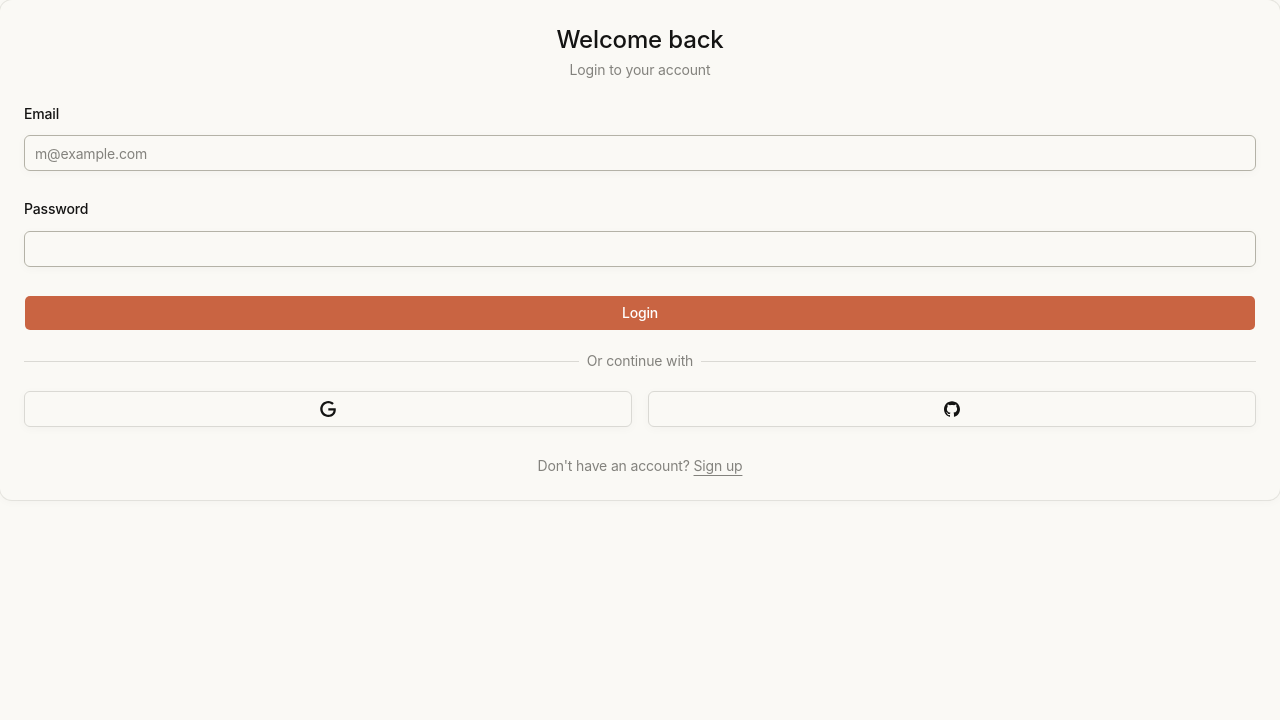
LoginForm › form submission › should show loading state while submitting
# When the user fills in credentials and clicks Login
In the field labelled "Email": (640, 153) 24,135 -> 1256,171, type "test@example.com"
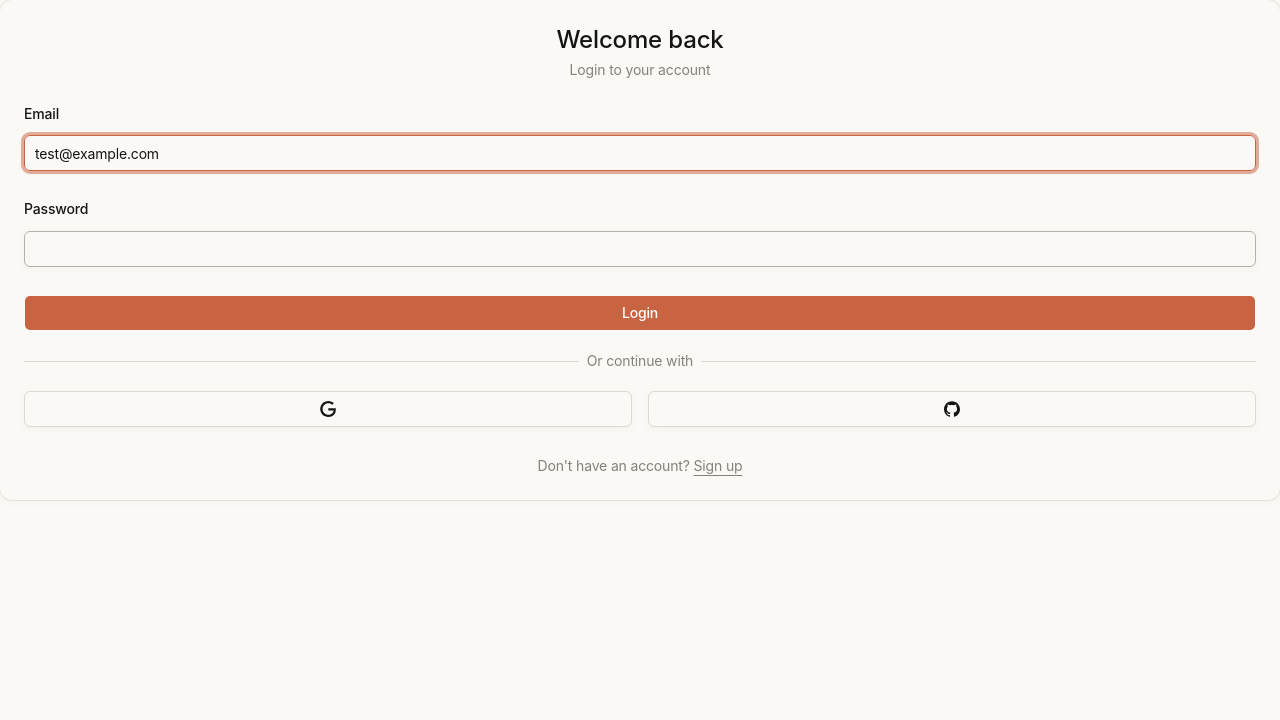
In the password field labelled "Password": (640, 248) 24,230 -> 1256,266, type "password123"
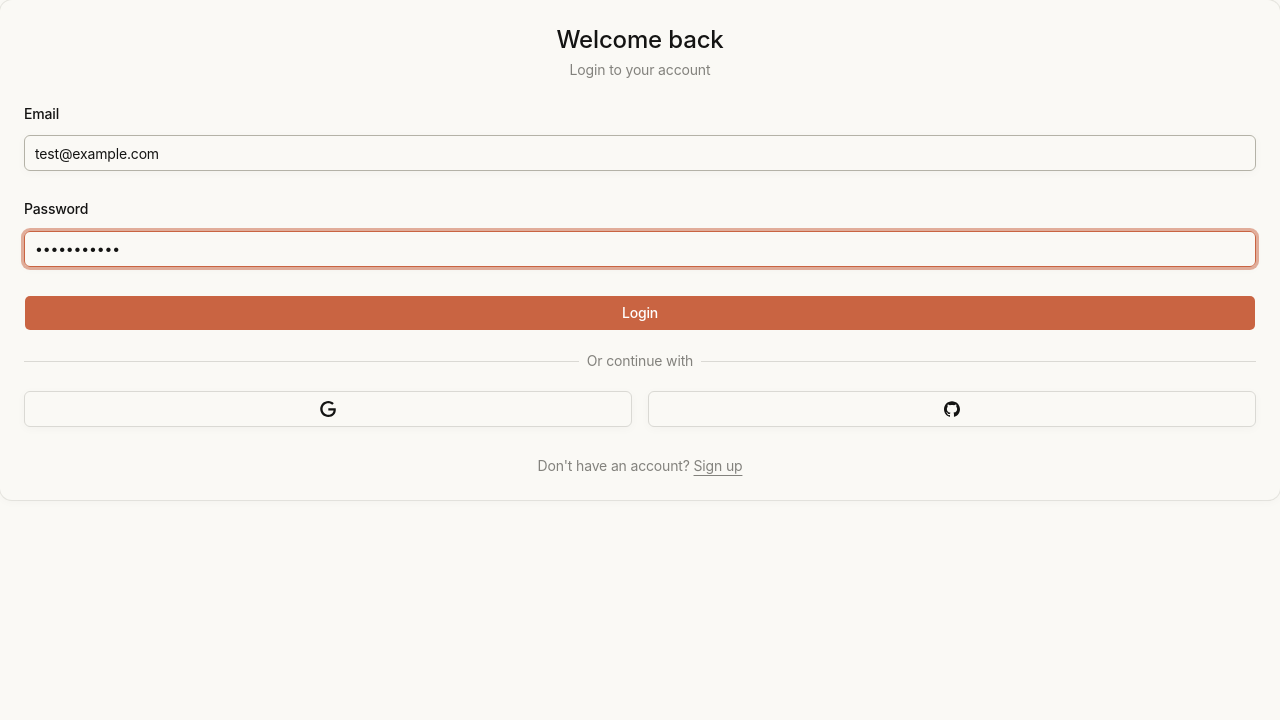
Click the button "Login": (640, 312) 24,294 -> 1256,330
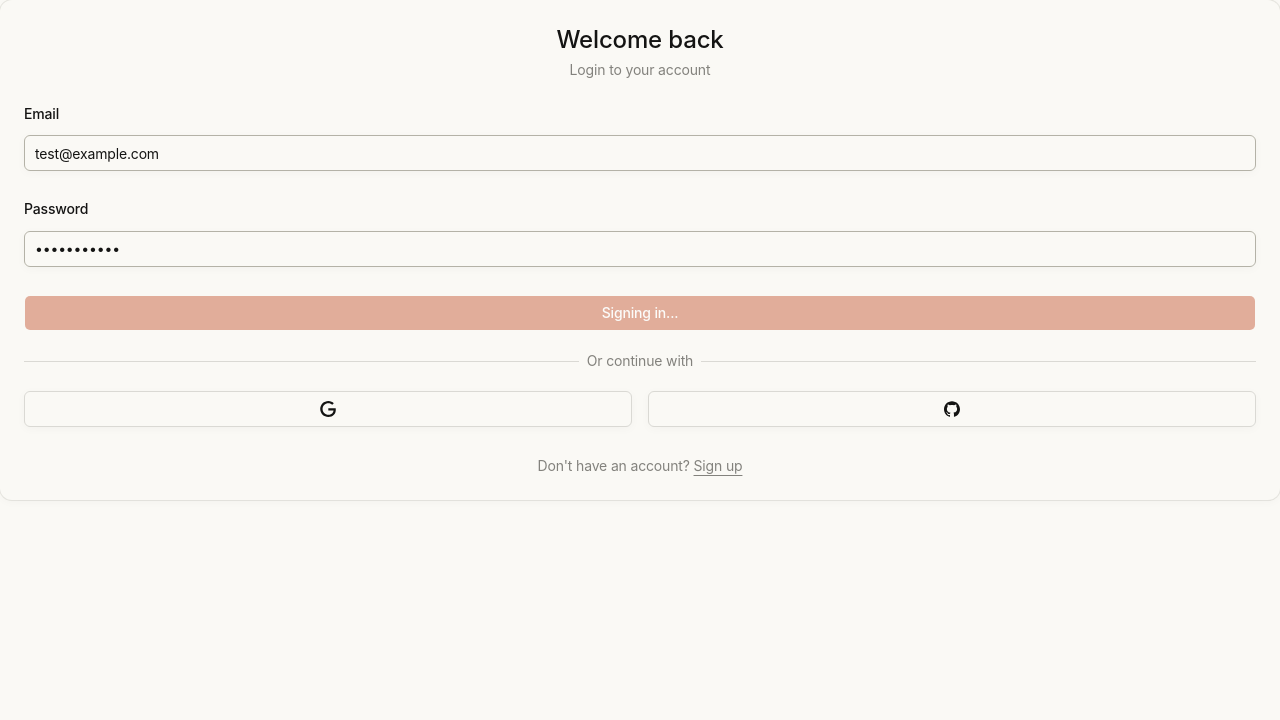
Expected: the button "Signing in..." is disabled, 24,294 -> 1256,330
